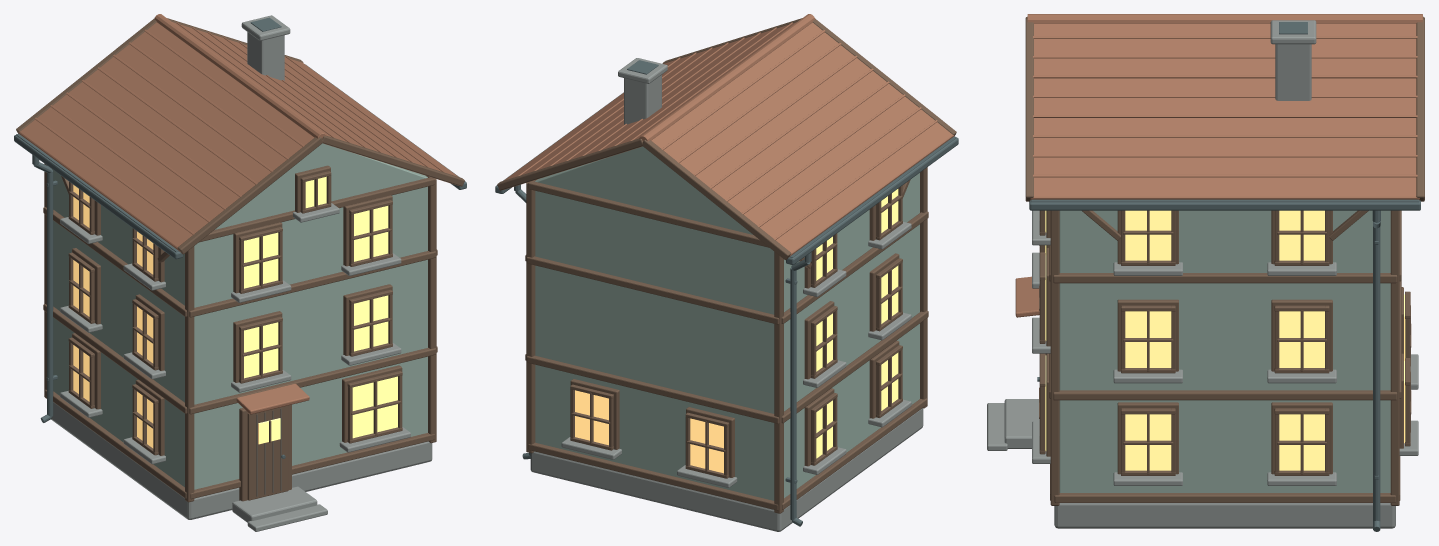
Rendered from SM_CanalHouseB.fbx.
3 views of the same model, side by side, from view 1: azimuth 30°, elevation 25°; view 2: azimuth 150°, elevation 25°; view 3: azimuth 270°, elevation 25° (orthographic). The views are drawn at different scales.
Visible parts, largest first — view 1: SM_CanalHouseB; view 2: SM_CanalHouseB; view 3: SM_CanalHouseB.
Part boxes in pixels (<box>): SM_CanalHouseB: <box>14,14,466,531</box>; SM_CanalHouseB: <box>495,14,958,531</box>; SM_CanalHouseB: <box>987,14,1424,531</box>.
Size of the model in its own units: 7.16 by 7.69 by 8.95.
